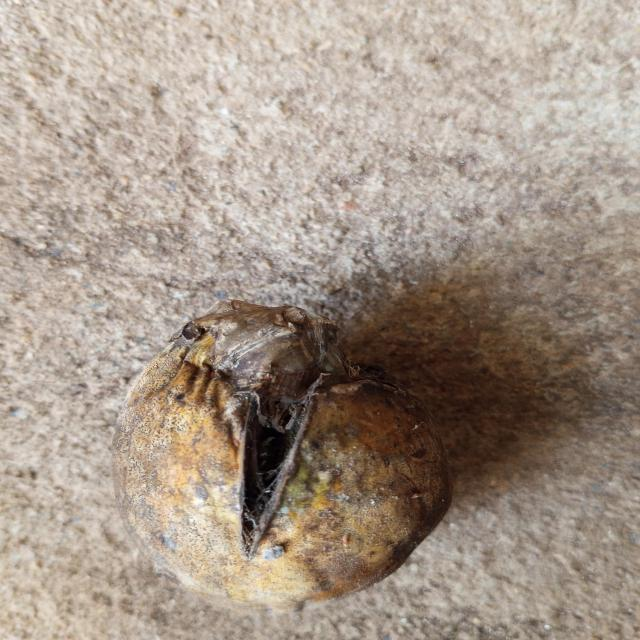damaged: (114, 300, 451, 606)
